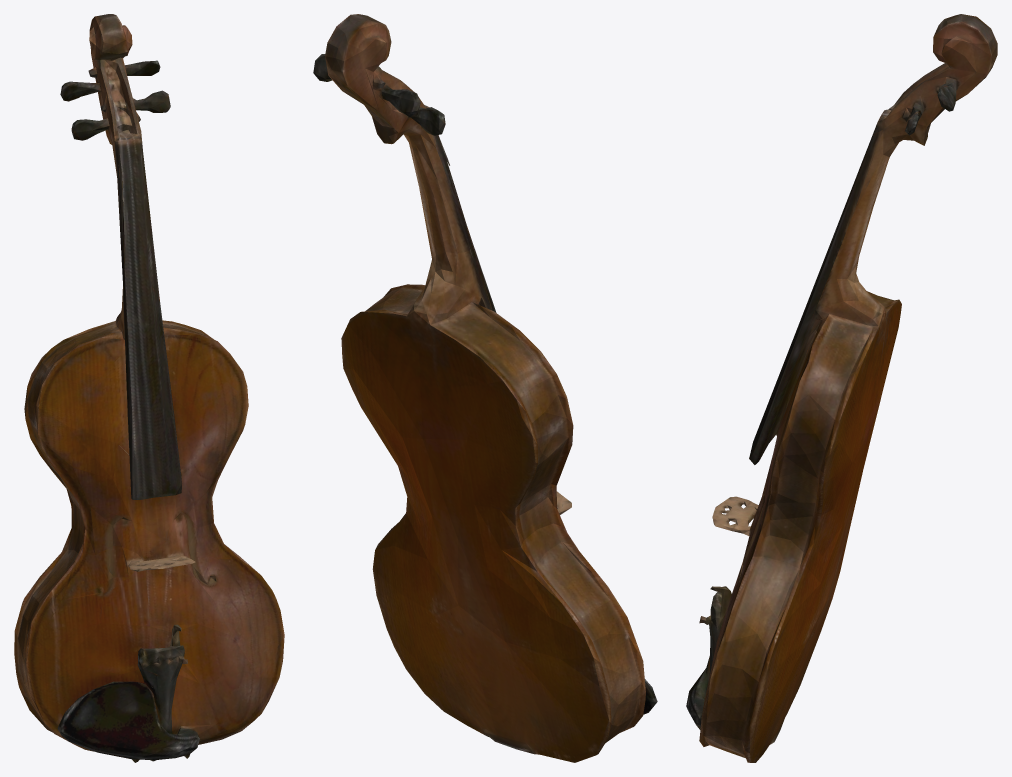
The model's file is 3B900264-B4FC-914C-AB5D-765F08CBAF72_512.glb.
3 renders of one model, left to right at view 1: azimuth 30°, elevation 25°; view 2: azimuth 150°, elevation 25°; view 3: azimuth 270°, elevation 25°, orthographic. The views are drawn at different scales.
Visible parts, largest first — view 1: Geige_2k_1k; view 2: Geige_2k_1k; view 3: Geige_2k_1k.
Boxes of the visible parts, x1=… form: Geige_2k_1k: x1=14, y1=14, x2=284, y2=762; Geige_2k_1k: x1=313, y1=14, x2=657, y2=762; Geige_2k_1k: x1=686, y1=14, x2=997, y2=762.
Size of the model in its own units: 0.1845 by 0.4991 by 0.1882.
Materials: 1 (1 with a texture image).
